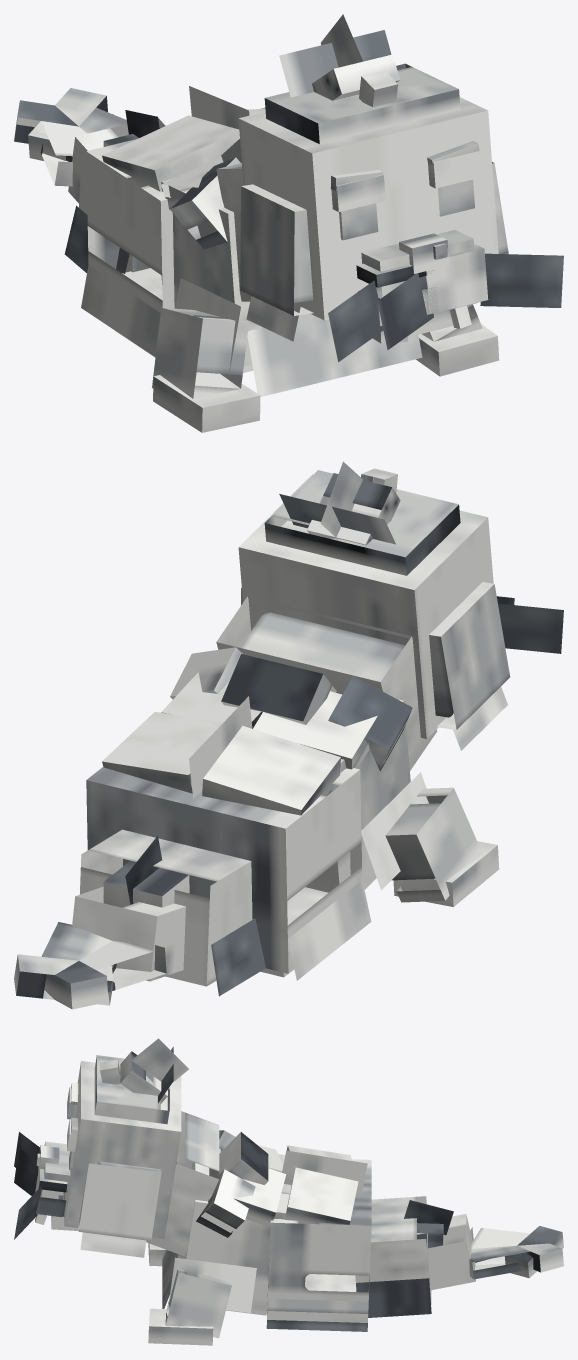
The model's file is icebreaker_cub.obj.
3 views of the same model, one above another, from view 1: azimuth 30°, elevation 25°; view 2: azimuth 150°, elevation 25°; view 3: azimuth 270°, elevation 25° (orthographic). The views are drawn at different scales.
Parts seen in each view (by area): view 1: head, belly, cheek_mirror, crown, fur_ruff, flipper_mirror, shag_belly_mirror, whisker_mirror, chest, whisker, palm_mirror, fur_flank_mirror (+30 smaller); view 2: belly, head, neck, hips, shag_belly_mirror, cheek_mirror, crown, flipper_mirror, tail, shag_belly, tuft2, chest (+21 smaller); view 3: belly, head, cheek, neck, chest, hips, shag_belly, flipper, crown, tail, fur_hips, fur_flank (+24 smaller).
Part boxes in pixels (bbox=[...]): head: bbox=[238, 97, 498, 320]; belly: bbox=[86, 107, 265, 312]; cheek_mirror: bbox=[240, 184, 313, 315]; crown: bbox=[264, 63, 460, 144]; fur_ruff: bbox=[247, 315, 422, 396]; flipper_mirror: bbox=[152, 308, 248, 398]; shag_belly_mirror: bbox=[102, 115, 239, 191]; whisker_mirror: bbox=[328, 273, 433, 362]; chest: bbox=[161, 178, 312, 366]; whisker: bbox=[480, 253, 563, 307]; palm_mirror: bbox=[153, 372, 260, 432]; fur_flank_mirror: bbox=[81, 265, 160, 357]; belly: bbox=[86, 767, 362, 973]; head: bbox=[238, 474, 493, 738]; neck: bbox=[216, 596, 437, 770]; hips: bbox=[80, 829, 252, 986]; shag_belly_mirror: bbox=[202, 726, 340, 815]; cheek_mirror: bbox=[429, 582, 510, 729]; crown: bbox=[264, 470, 460, 575]; flipper_mirror: bbox=[385, 787, 482, 902]; tail: bbox=[72, 886, 185, 981]; shag_belly: bbox=[102, 712, 222, 793]; tuft2: bbox=[221, 654, 338, 724]; chest: bbox=[305, 699, 410, 892]; belly: bbox=[267, 1159, 371, 1322]; head: bbox=[64, 1061, 181, 1238]; cheek: bbox=[78, 1161, 161, 1240]; neck: bbox=[146, 1111, 219, 1256]; chest: bbox=[180, 1149, 291, 1311]; hips: bbox=[355, 1196, 431, 1304]; shag_belly: bbox=[284, 1167, 358, 1224]; flipper: bbox=[165, 1269, 231, 1338]; crown: bbox=[94, 1055, 169, 1124]; tail: bbox=[417, 1214, 475, 1290]; fur_hips: bbox=[356, 1278, 431, 1317]; fur_flank: bbox=[266, 1298, 368, 1331].
Bounding box in the file's own units: 25.62 × 31.5 × 59.87.
1 material, 1 textured.
